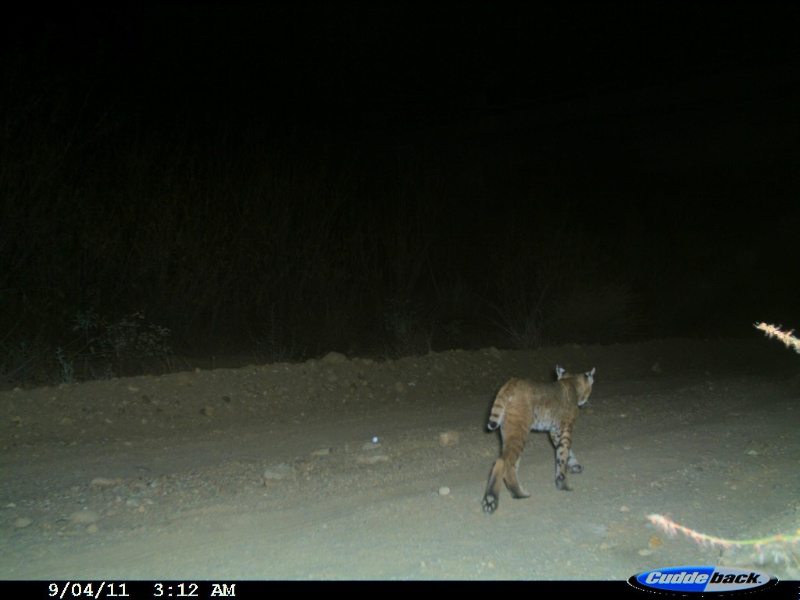cat: (477, 361, 603, 514)
